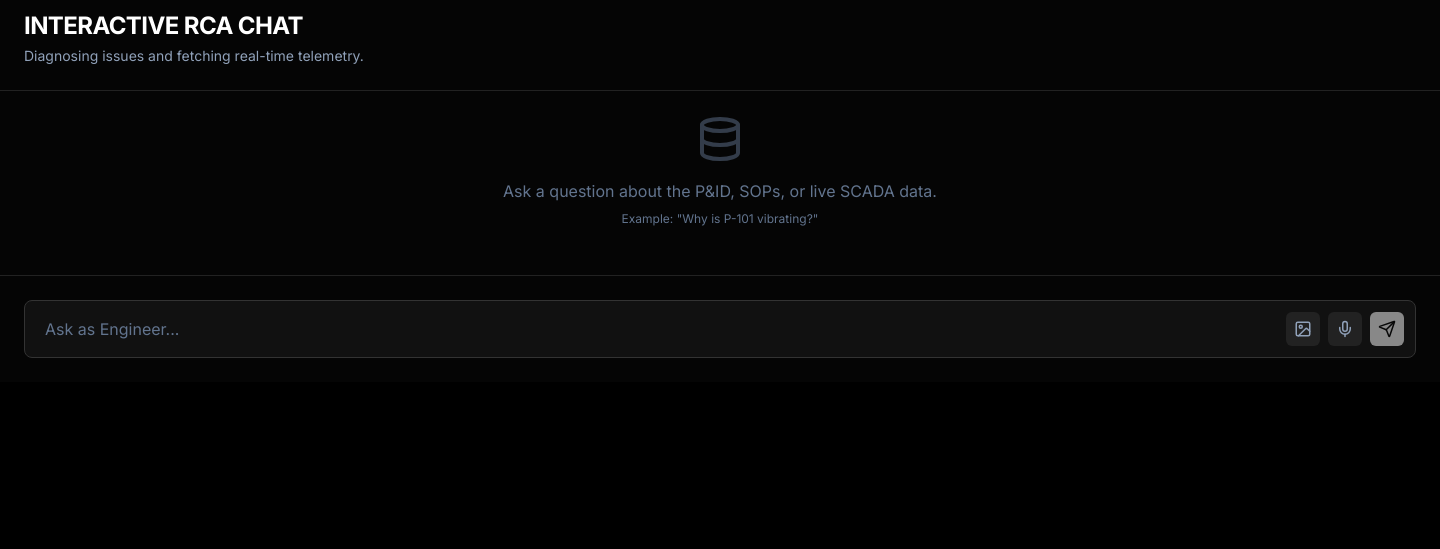
it: ChatInterface Component › submits a message and handles SSE stream response
Type "Why is P-101 vibrating?" into the field with placeholder "Ask as Engineer..." at (720, 329), box [24,300,1416,358]
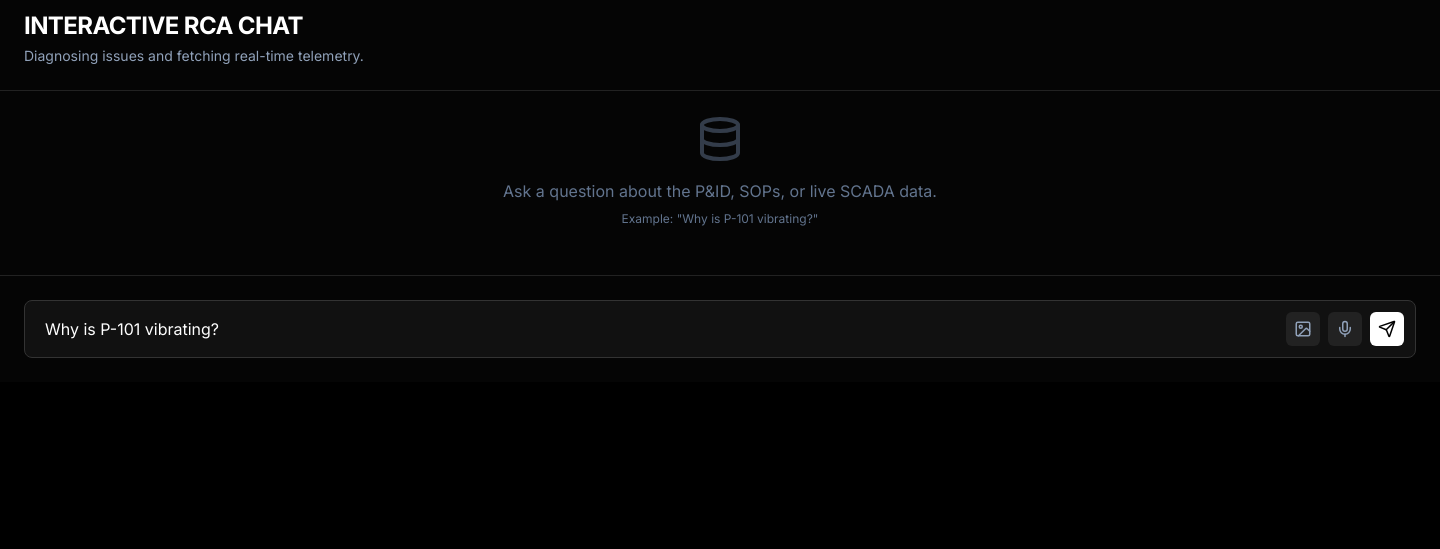
Note: Using act for fireEvent that causes state updates
Click the submit button at (1387, 329), box [1370,312,1404,346]
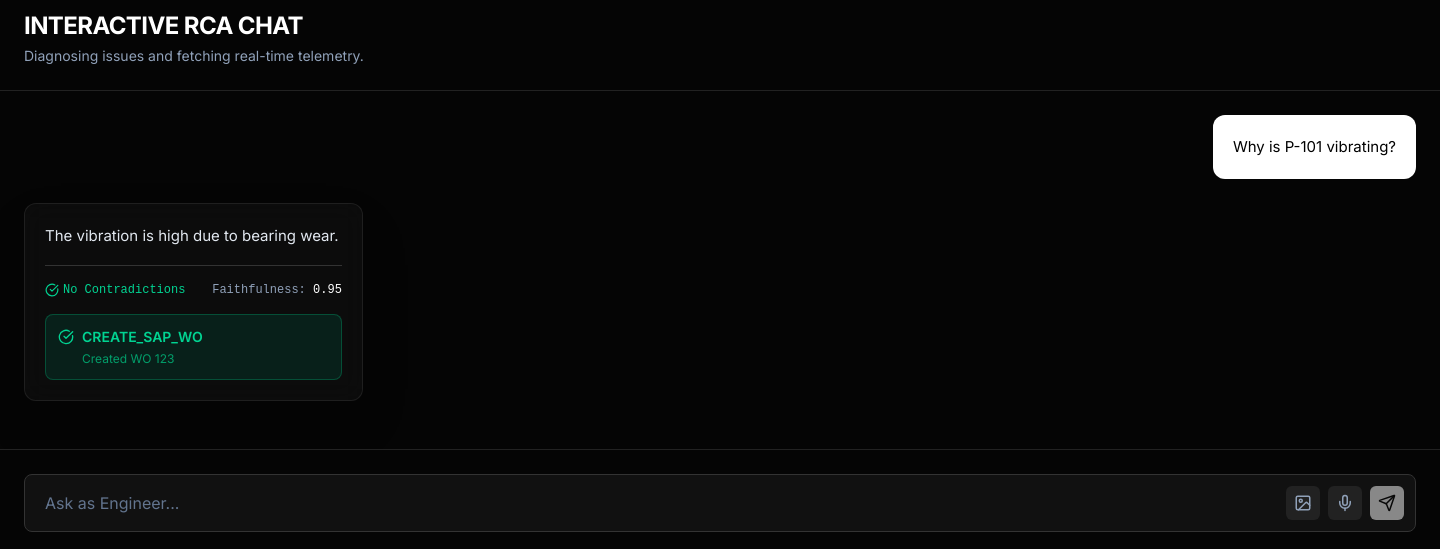
Check: the text "The vibration is high due to bearing wear." is shown, box [45,224,342,249]
Check: the text "CREATE_SAP_WO" is shown, box [82,327,203,347]
Check: the text "Created WO 123" is shown, box [82,351,174,366]
